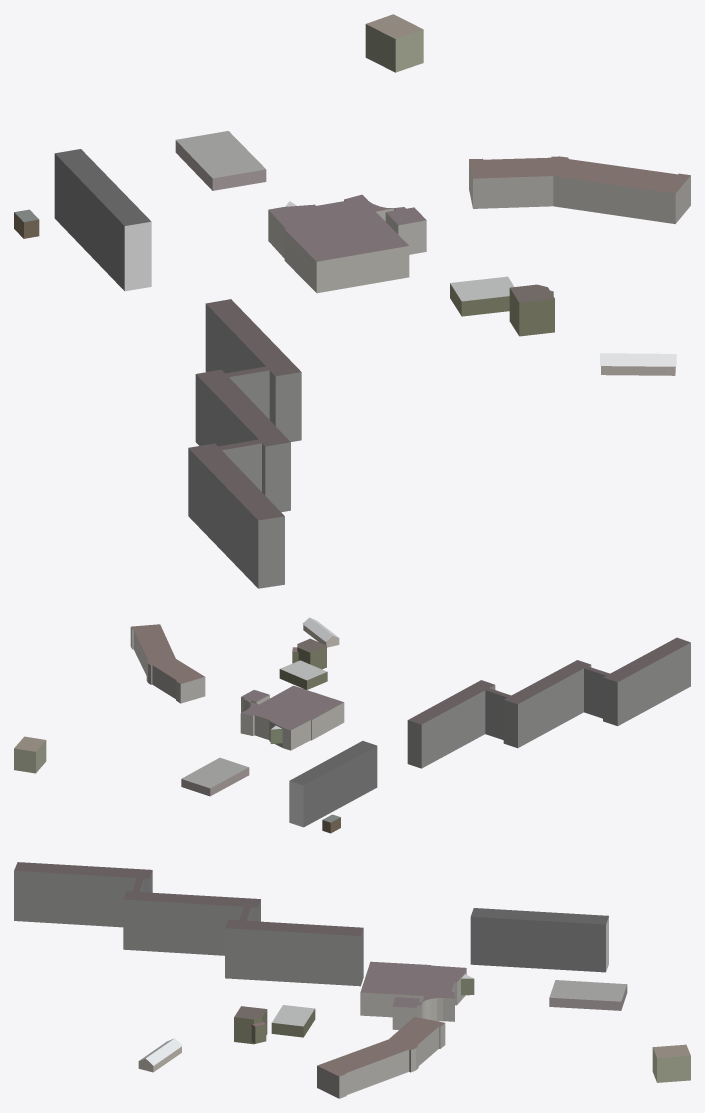
3 renders of one model, top to bottom at view 1: azimuth 30°, elevation 25°; view 2: azimuth 150°, elevation 25°; view 3: azimuth 270°, elevation 25°, orthographic. The views are drawn at different scales.
Visible parts, largest first — view 1: tuile; view 2: tuile; view 3: tuile.
Part boxes in pixels (<box>): tuile: <box>14,14,690,588</box>; tuile: <box>14,617,690,833</box>; tuile: <box>14,862,690,1098</box>.
Bounding box in the file's own units: 244 × 33.79 × 299.
